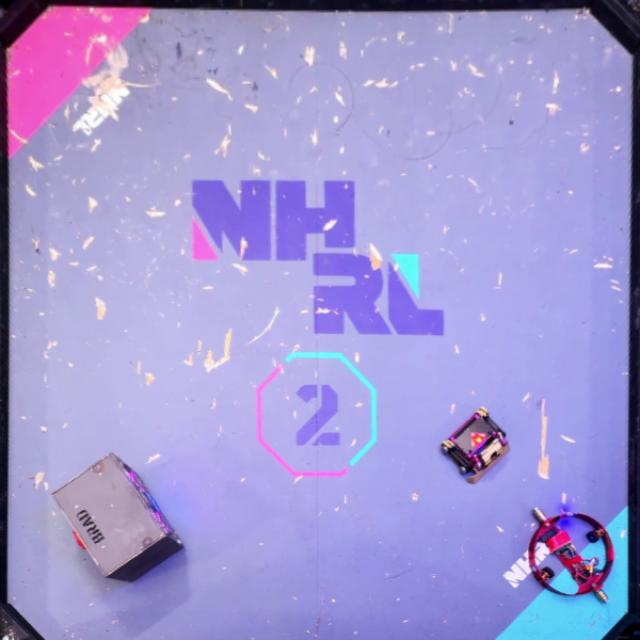housebot: (53, 454, 184, 583)
robot: (528, 507, 614, 604), (440, 408, 510, 483)
